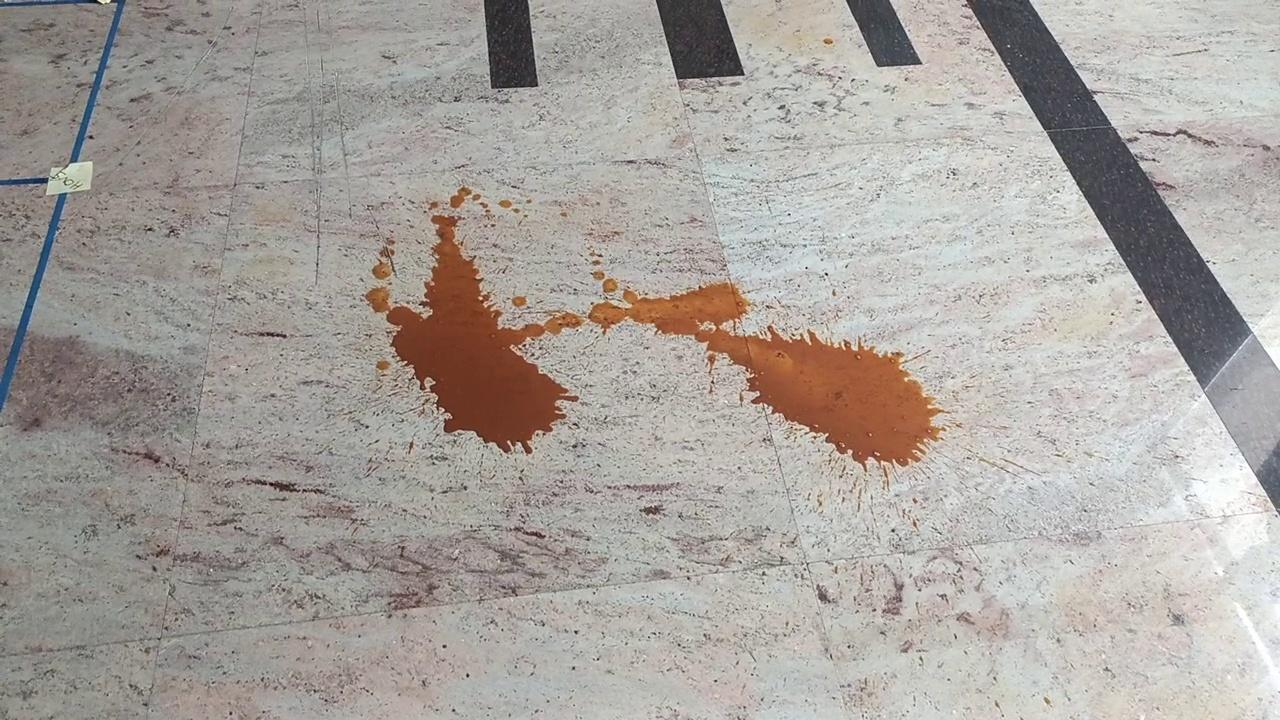dirty_floor: (374, 184, 944, 475)
